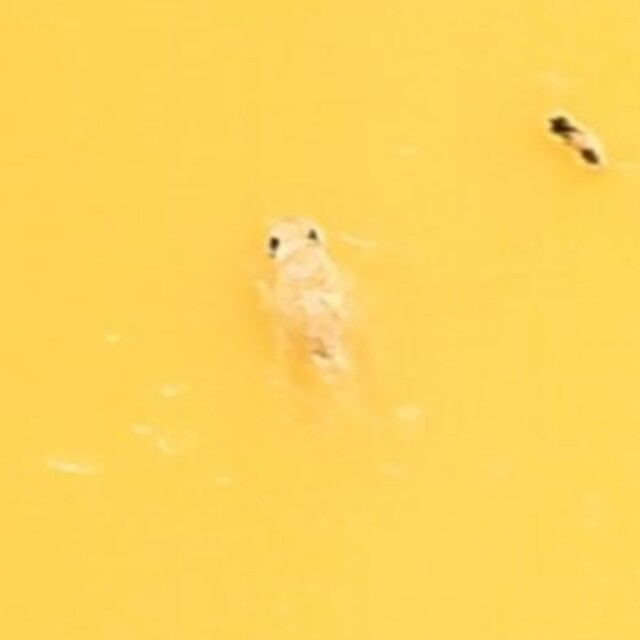Hemiptera: (247, 210, 393, 430)
